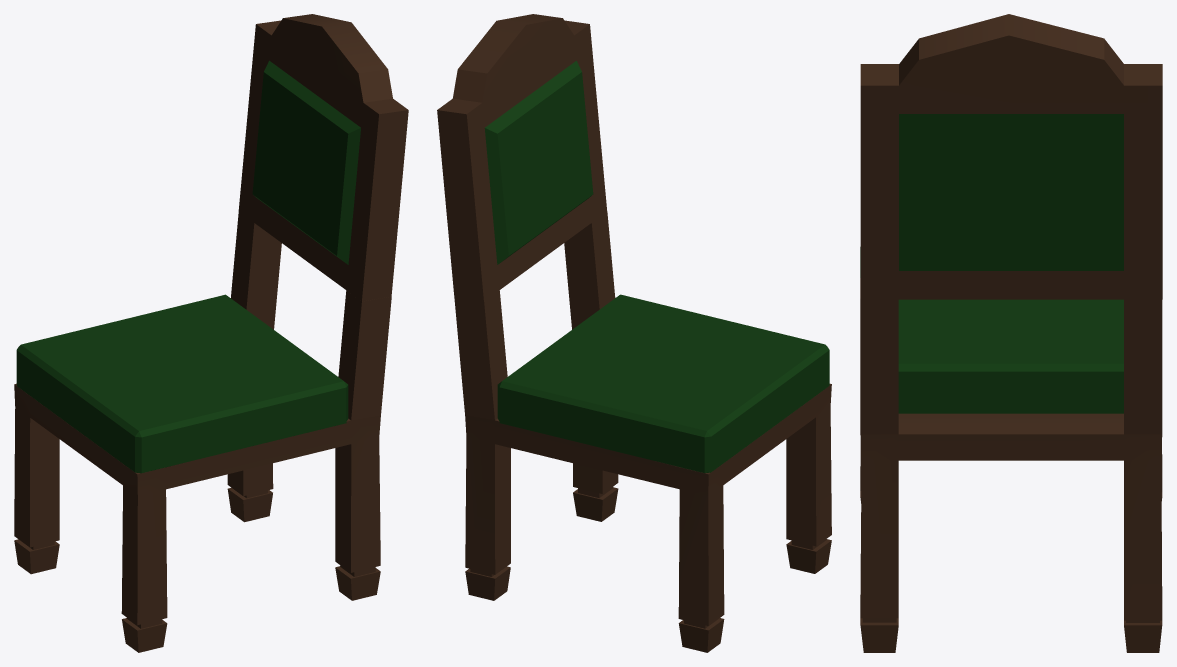
Rendered from chair.fbx.
3 views of the same model, side by side, from view 1: azimuth 30°, elevation 25°; view 2: azimuth 150°, elevation 25°; view 3: azimuth 270°, elevation 25° (orthographic). The views are drawn at different scales.
Visible parts, largest first — view 1: pCube2, pCube1, pCube3; view 2: pCube2, pCube1, pCube3; view 3: pCube3, pCube2, pCube1.
Part boxes in pixels (x1=…): pCube2: x1=14, y1=212, x2=391, y2=652; pCube1: x1=16, y1=294, x2=348, y2=473; pCube3: x1=238, y1=14, x2=408, y2=301; pCube2: x1=454, y1=211, x2=831, y2=652; pCube1: x1=497, y1=294, x2=829, y2=473; pCube3: x1=437, y1=14, x2=606, y2=301; pCube3: x1=860, y1=14, x2=1162, y2=299; pCube2: x1=860, y1=278, x2=1162, y2=652; pCube1: x1=860, y1=247, x2=1123, y2=413.
Bounding box in the file's own units: 6.44 × 11.73 × 5.
